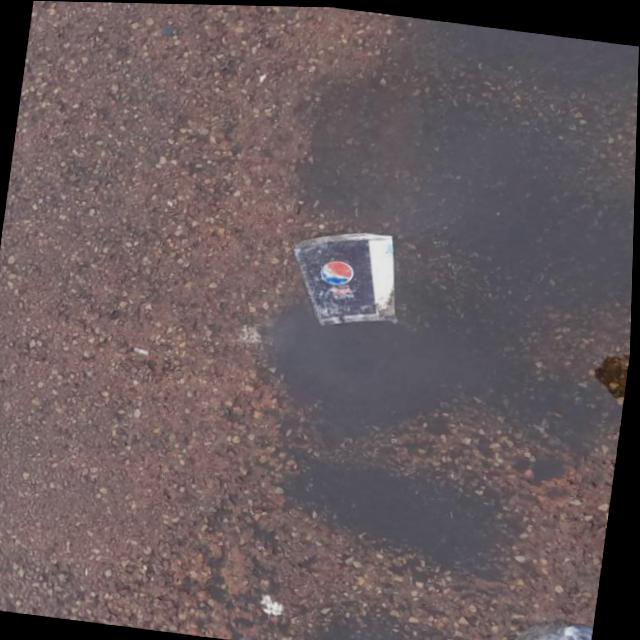Cup: (279, 218, 413, 335)
